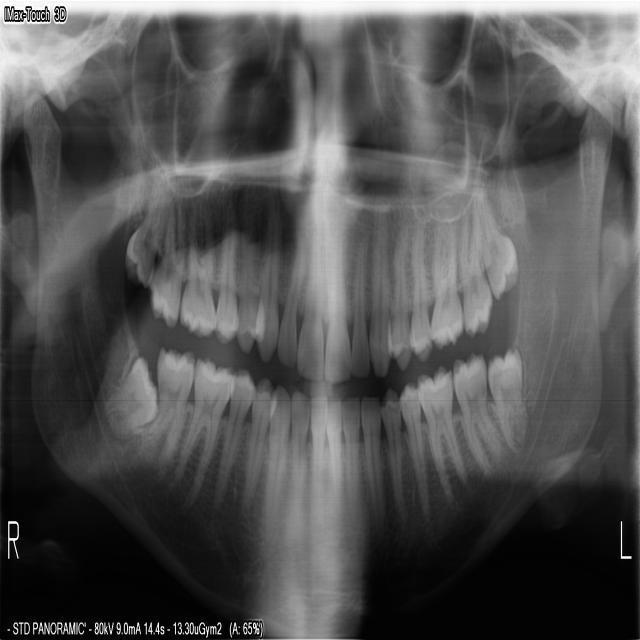LCD: (362, 393, 385, 539)
LCU: (370, 217, 392, 380)
LID: (341, 393, 360, 504), (326, 394, 341, 507)
LIU: (324, 222, 351, 382), (352, 225, 371, 377)
LMD: (415, 360, 470, 503), (450, 347, 504, 479), (486, 349, 529, 457)
LMU: (476, 187, 521, 307), (430, 193, 462, 349), (459, 204, 493, 337)
LPMD: (398, 378, 434, 520), (380, 389, 404, 515)
LPMU: (387, 222, 412, 369), (409, 212, 432, 369)
RCD: (262, 384, 290, 538)
RCU: (254, 190, 282, 359)
RID: (289, 393, 308, 520), (309, 397, 330, 509)
RIU: (295, 227, 324, 383), (277, 224, 307, 369)
RMD: (169, 350, 235, 507), (131, 344, 195, 473), (104, 345, 161, 440)
RMU: (146, 193, 187, 328), (121, 177, 166, 294), (179, 198, 215, 342)
RPMD: (213, 362, 256, 499), (239, 373, 275, 509)
RPMU: (237, 212, 261, 355), (215, 209, 239, 348)
